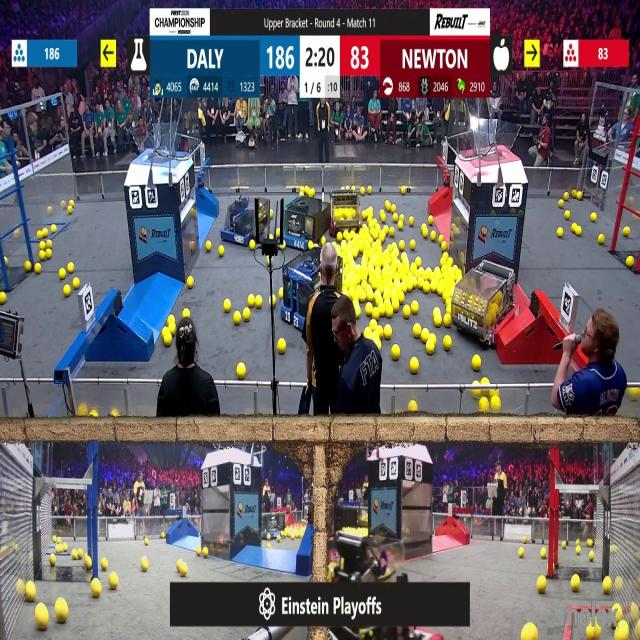ball_airborne: (524, 625, 538, 640)
ball_ground: (36, 605, 49, 631), (27, 583, 37, 602), (570, 575, 580, 591), (537, 577, 546, 594), (178, 561, 188, 576), (237, 362, 246, 378), (411, 357, 420, 373), (471, 355, 480, 370), (480, 396, 489, 411), (603, 578, 611, 594), (109, 572, 117, 588), (182, 562, 190, 578), (630, 387, 639, 400), (278, 340, 286, 354), (392, 345, 399, 360), (384, 325, 392, 338), (414, 324, 422, 337), (426, 342, 434, 355), (77, 407, 86, 418), (244, 308, 251, 322), (141, 558, 148, 572), (234, 312, 242, 324), (165, 335, 172, 348), (410, 400, 418, 411), (86, 558, 94, 569), (223, 301, 230, 313), (386, 306, 393, 318), (627, 256, 635, 266), (248, 295, 255, 306), (403, 307, 410, 318), (65, 284, 71, 296), (26, 262, 32, 274), (0, 291, 6, 303), (187, 276, 193, 288), (102, 558, 108, 570), (255, 295, 261, 307), (377, 326, 384, 336), (44, 249, 51, 259), (74, 278, 80, 289), (36, 264, 42, 275), (49, 555, 55, 566), (482, 378, 490, 386), (182, 309, 189, 318), (423, 283, 430, 292), (218, 246, 224, 256), (61, 270, 67, 280), (442, 242, 448, 252), (624, 228, 630, 238), (204, 548, 210, 558), (442, 254, 448, 264), (68, 264, 74, 274), (392, 303, 398, 313), (430, 282, 436, 292), (250, 241, 256, 250), (397, 241, 403, 250), (416, 256, 422, 265), (39, 241, 45, 250), (598, 236, 604, 245), (343, 233, 349, 242), (411, 240, 416, 250), (575, 225, 580, 235), (558, 200, 564, 208), (45, 240, 51, 248), (91, 412, 99, 418), (50, 224, 56, 232), (588, 539, 594, 547), (410, 217, 415, 226), (72, 551, 77, 560), (397, 214, 403, 221), (396, 222, 403, 228), (392, 213, 397, 221), (356, 309, 360, 319), (430, 234, 435, 242), (419, 280, 424, 288), (309, 242, 314, 250), (571, 224, 576, 232), (68, 207, 73, 215), (320, 237, 325, 245), (576, 190, 581, 198), (592, 212, 596, 221), (518, 551, 524, 557), (520, 549, 524, 558), (186, 310, 192, 316), (339, 234, 343, 242), (144, 538, 149, 544), (566, 212, 571, 218), (378, 342, 382, 349), (562, 540, 566, 547), (524, 536, 527, 543)
goal: (464, 121, 520, 159), (130, 132, 187, 159)
robot_blue: (282, 249, 344, 332), (224, 197, 266, 248), (280, 200, 314, 249), (260, 512, 286, 539)
robot_red: (450, 288, 490, 342), (330, 186, 363, 233)
